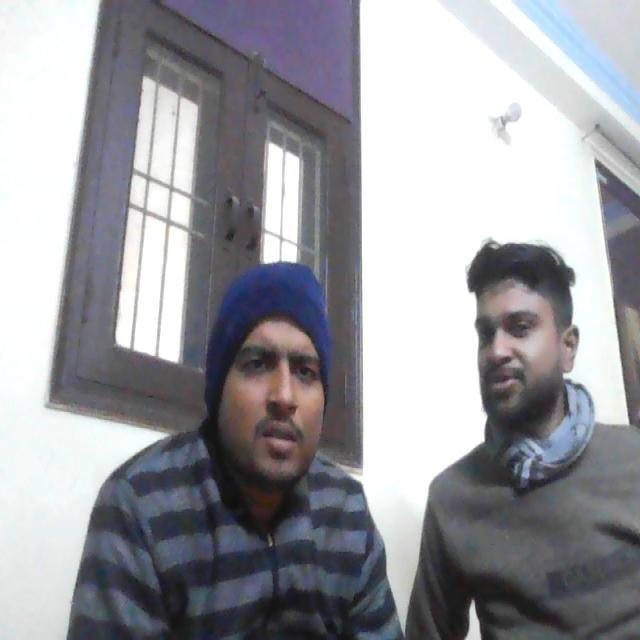real: (210, 264, 336, 501), (467, 232, 570, 427)
